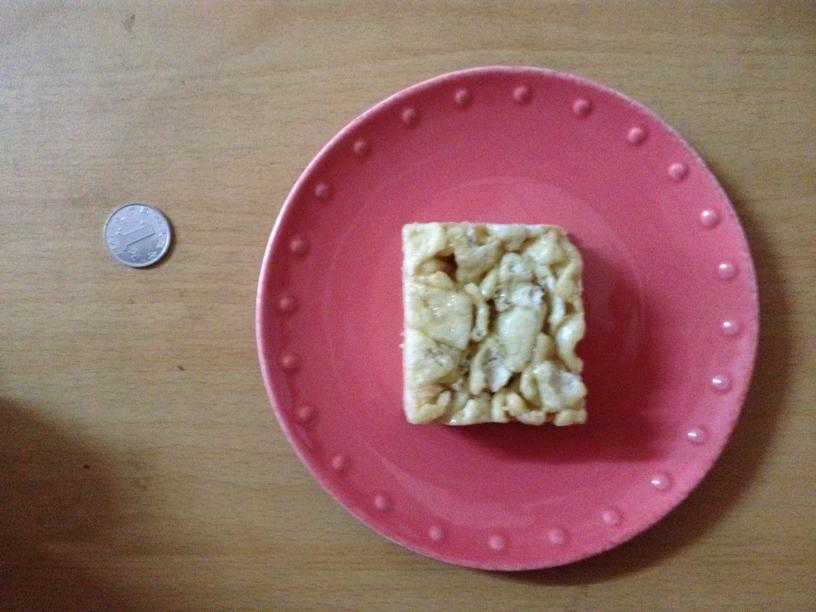coin: (103, 202, 171, 268)
sachima: (400, 221, 586, 426)
